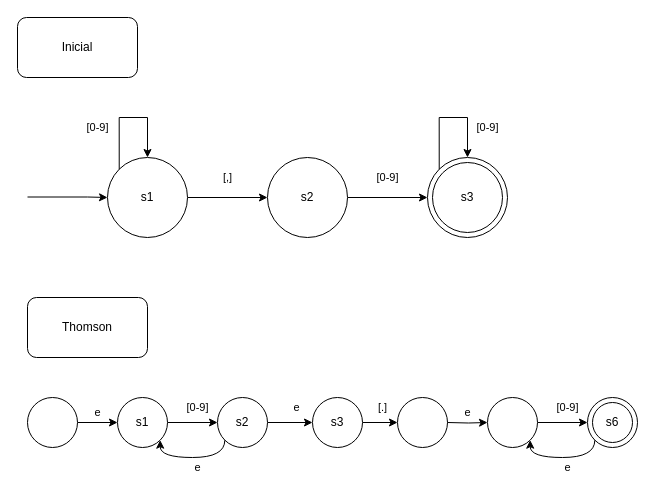
This 655x491 diagram has some shape labels left out. The shapes that lost their labels are listed below. From the top down, each one's centre as x and y in pixels, then its label:
At point (52, 422): "s0".
At point (422, 422): "s4".
At point (512, 422): "s5".
